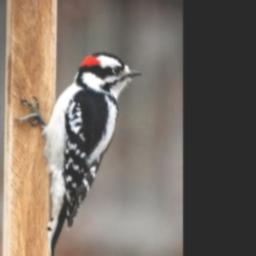Woodpecker: (14, 52, 142, 256)
